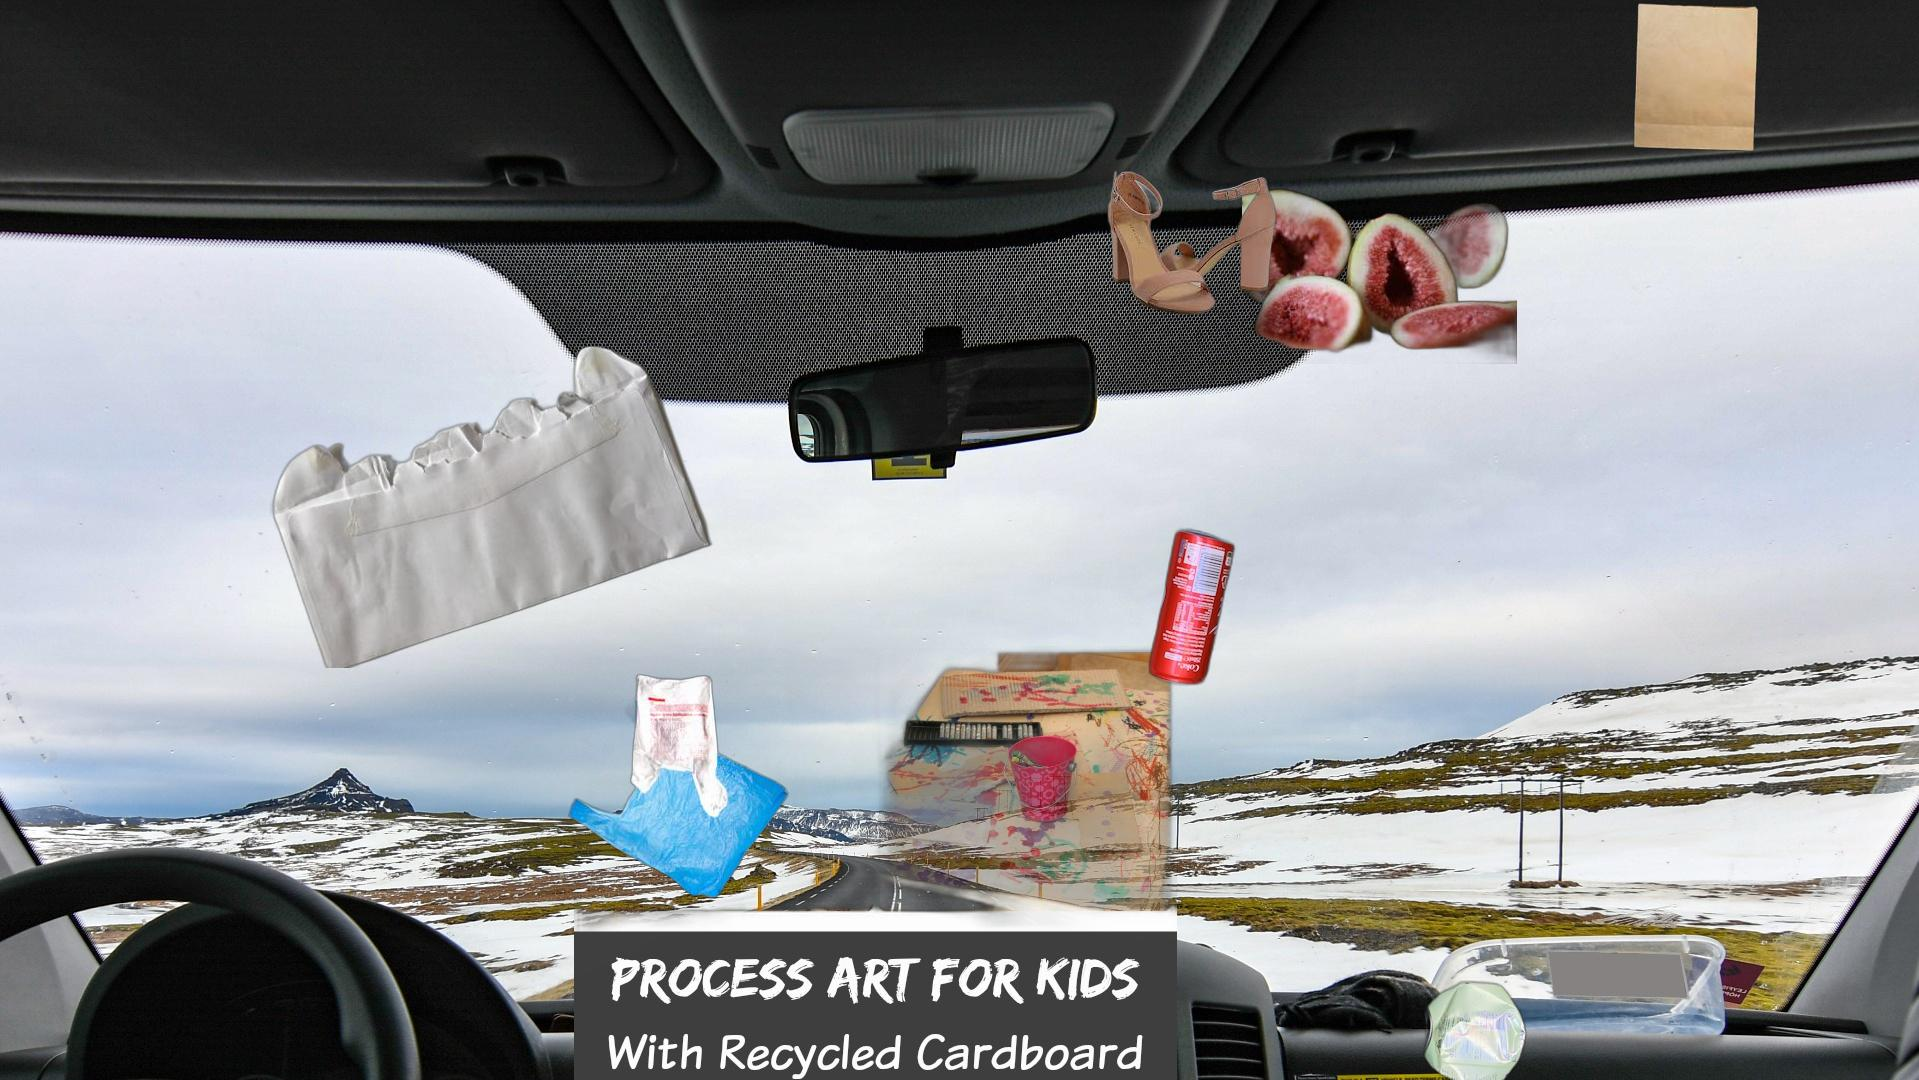biological: (1242, 181, 1517, 364)
metal-cans: (1144, 524, 1239, 691), (1419, 975, 1532, 1080)
paper: (270, 344, 714, 669)
paper-bag: (1632, 1, 1761, 154)
plastic-bag: (565, 673, 791, 899)
shoes: (1102, 167, 1278, 316)
trashbox-cardboard: (575, 646, 1177, 1080)
